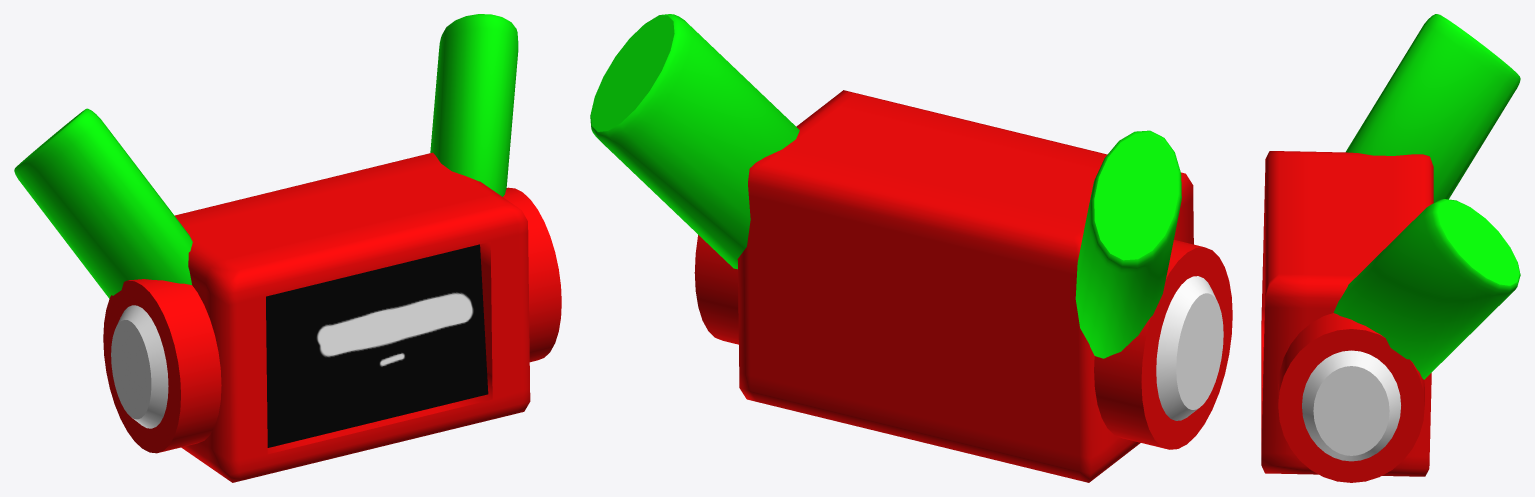
File: Treble_head.fbx
The picture shows the model from 3 angles, left to right: view 1: azimuth 30°, elevation 25°; view 2: azimuth 150°, elevation 25°; view 3: azimuth 270°, elevation 25°; orthographic projection. The views are drawn at different scales.
Parts seen in each view (by area): view 1: Treble_head; view 2: Treble_head; view 3: Treble_head.
Part boxes in pixels (bbox=[...]): Treble_head: bbox=[14, 14, 561, 482]; Treble_head: bbox=[590, 14, 1232, 482]; Treble_head: bbox=[1261, 14, 1520, 482].
Size of the model in its own units: 49.54 by 31.38 by 24.2.
